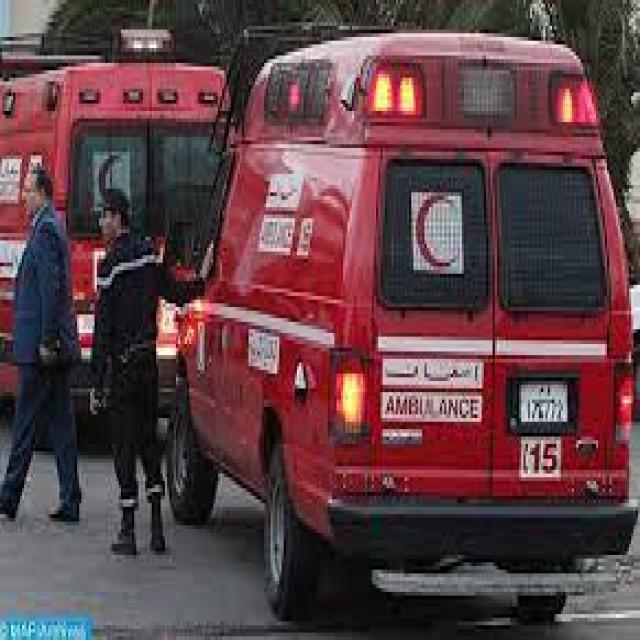ambulance: (178, 32, 628, 608)
